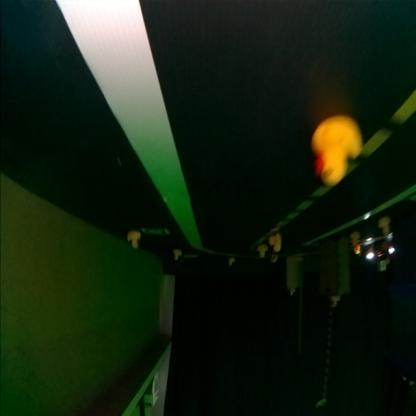Duckie: (312, 115, 362, 185), (129, 233, 141, 249), (270, 236, 282, 252), (380, 218, 390, 235), (258, 246, 268, 258), (333, 297, 341, 309)
QR code: (142, 230, 170, 236)
